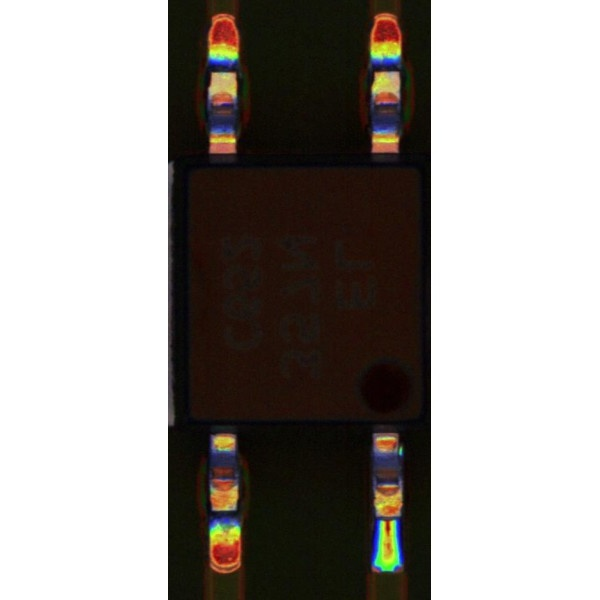Bad_podu: (380, 510, 396, 536)
